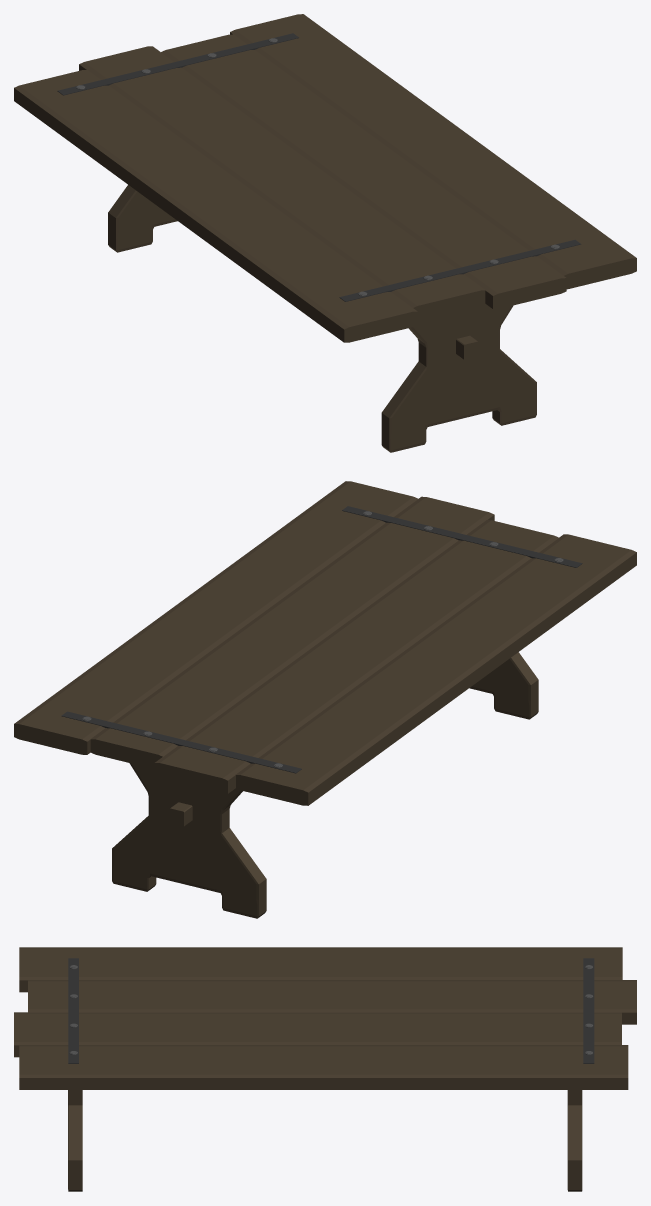
Rendered from Table.fbx.
3 views of the same model, one above another, from view 1: azimuth 30°, elevation 25°; view 2: azimuth 150°, elevation 25°; view 3: azimuth 270°, elevation 25° (orthographic). The views are drawn at different scales.
Visible parts, largest first — view 1: Cube.004; view 2: Cube.004; view 3: Cube.004.
Part boxes in pixels (box(x1,y1,x2,y2)): Cube.004: box(14, 14, 636, 452); Cube.004: box(14, 481, 636, 918); Cube.004: box(14, 947, 636, 1191).
Size of the model in its own units: 199 by 106 by 401.
